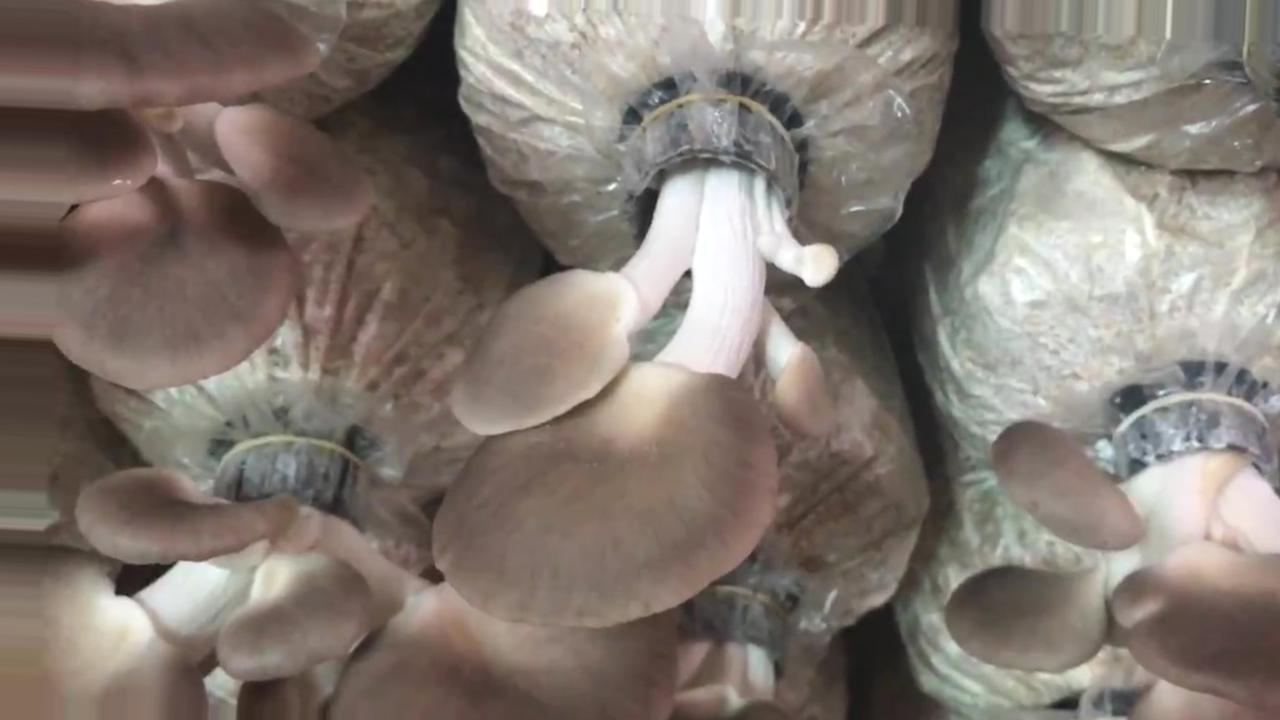nam: (430, 77, 849, 630), (15, 425, 685, 720), (3, 1, 381, 398), (942, 366, 1280, 718)
